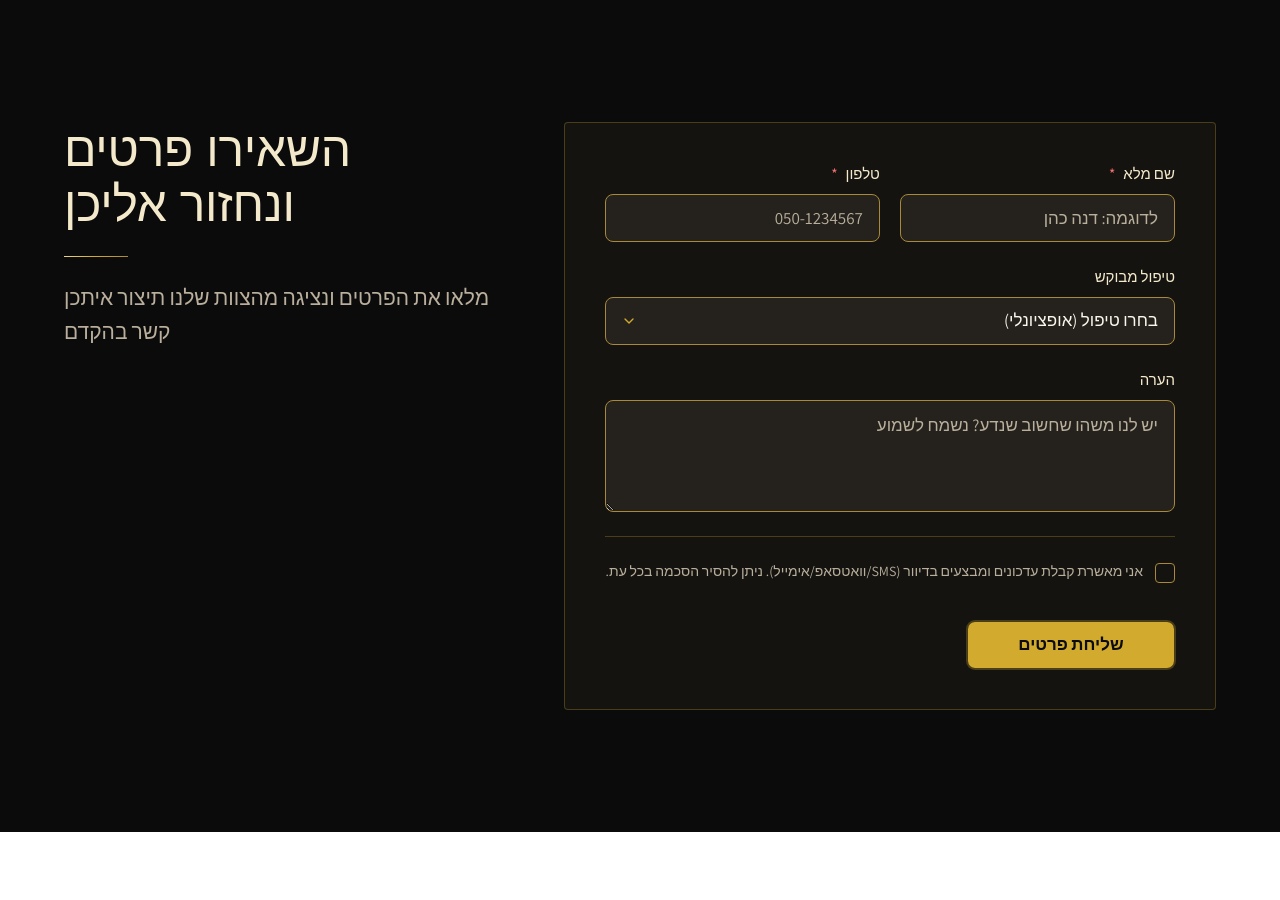
Test: ContactFormSection › שליחה עם טלפון לא תקין מציגה שגיאת ולידציה וחוסמת שליחה
In the field labelled "שם מלא *": (1037, 218) [900,194,1175,242], type "דנה כהן"
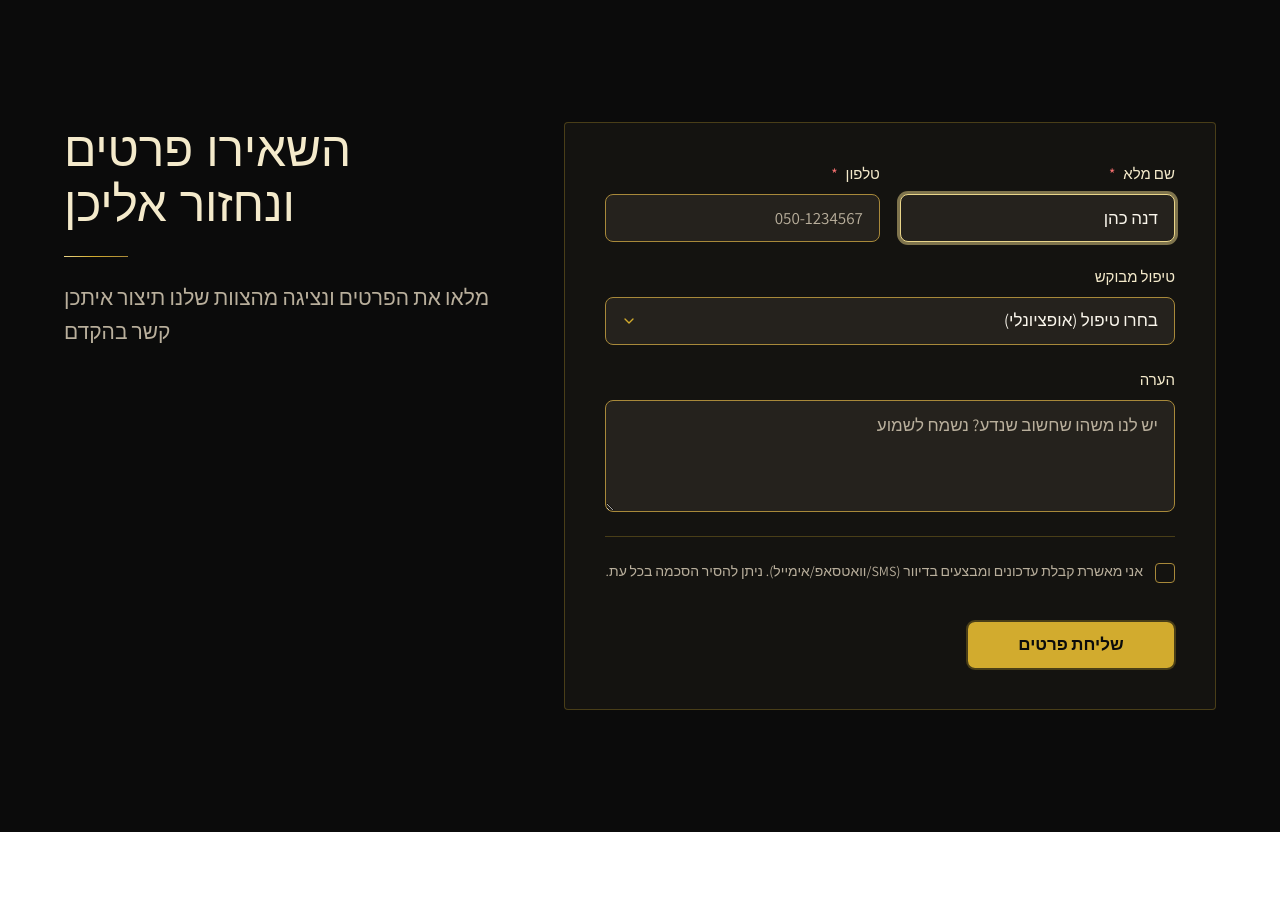
In the field labelled "טלפון *": (742, 218) [605,194,880,242], type "12345"
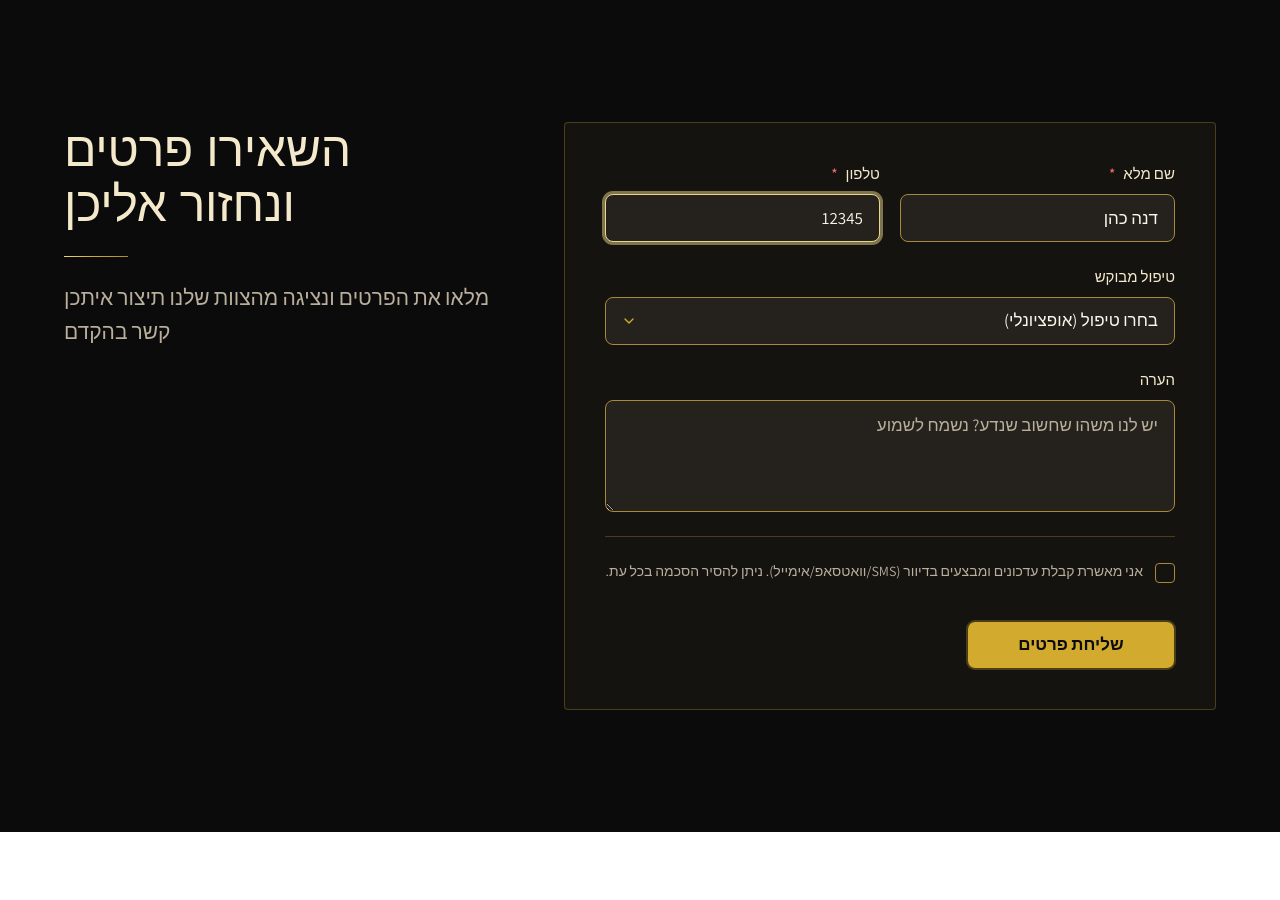
Click the button "שליחת פרטים": (1071, 645) [967,621,1175,669]
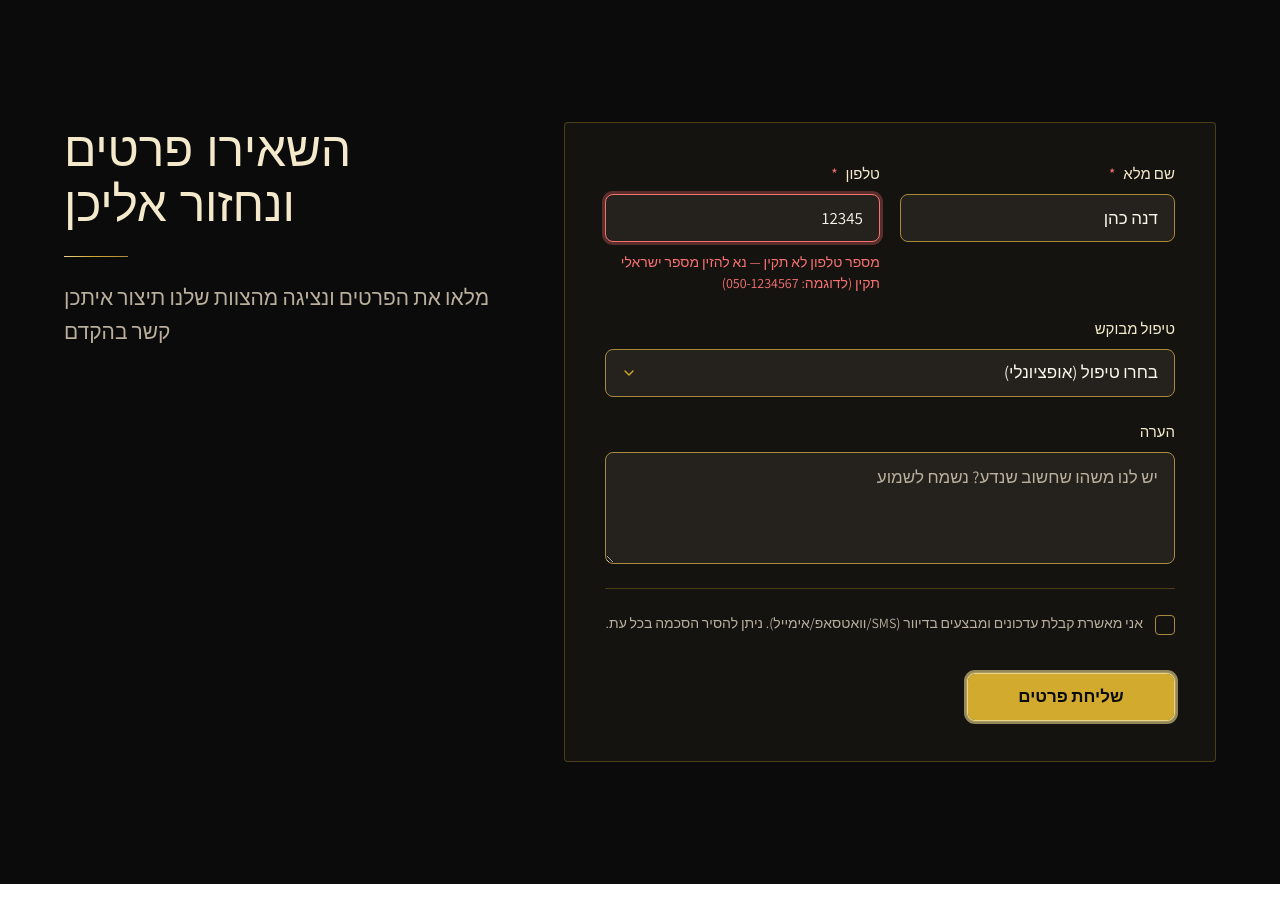
Result: the text "מספר טלפון לא תקין" is shown at [621,253,880,292]
